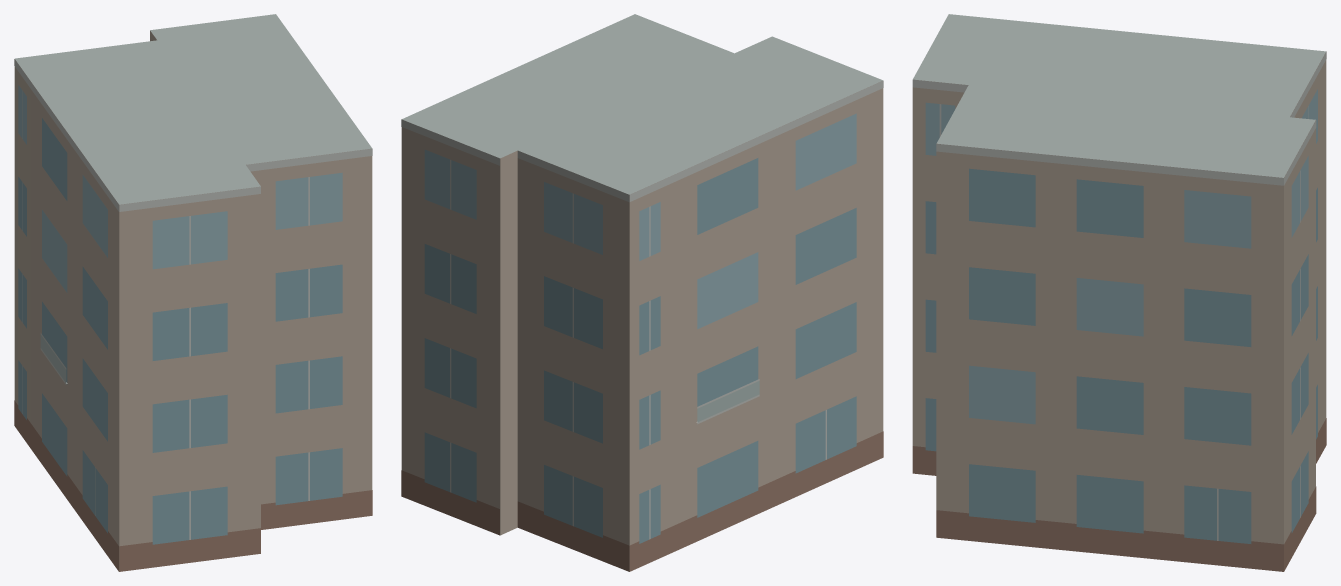
File: residential-eac36200-b213-4f10-9658-a1b288faf450.glb
3 views of the same model, side by side, from view 1: azimuth 30°, elevation 25°; view 2: azimuth 150°, elevation 25°; view 3: azimuth 270°, elevation 25° (orthographic). The views are drawn at different scales.
Parts seen in each view (by area): view 1: residential-eac36200-b213-4f10-9658-a1b288faf450.tmp; view 2: residential-eac36200-b213-4f10-9658-a1b288faf450.tmp; view 3: residential-eac36200-b213-4f10-9658-a1b288faf450.tmp.
Part boxes in pixels (left/top/right/bottom): residential-eac36200-b213-4f10-9658-a1b288faf450.tmp: left=14, top=14, right=372, bottom=571; residential-eac36200-b213-4f10-9658-a1b288faf450.tmp: left=401, top=14, right=883, bottom=571; residential-eac36200-b213-4f10-9658-a1b288faf450.tmp: left=912, top=14, right=1326, bottom=571.
Size of the model in its own units: 10.9 by 12.2 by 11.62.
